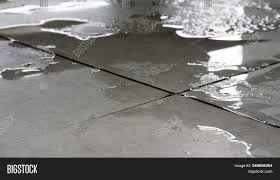Wet-floor: (10, 5, 202, 96), (188, 25, 272, 113), (112, 110, 241, 166)
